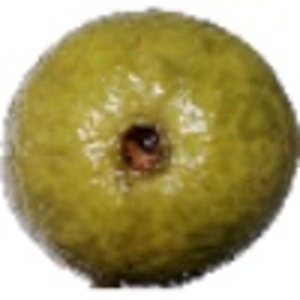goiaba: (3, 6, 296, 288)
